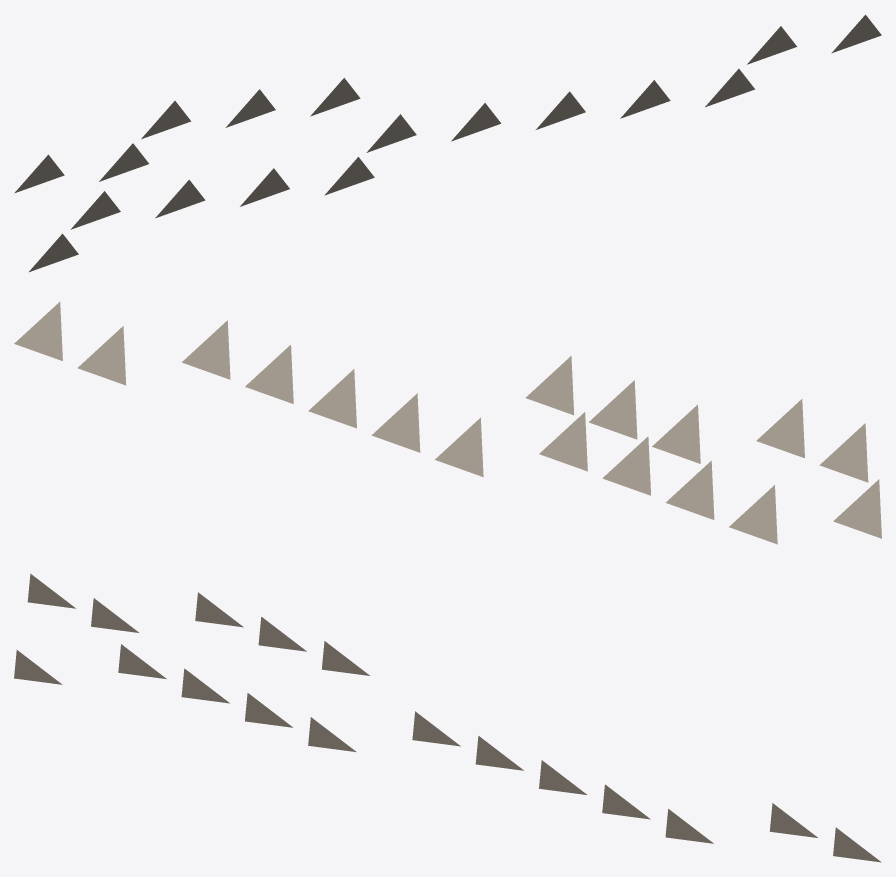
File: prop_bulk_gen_0493_lod2.gltf
The picture shows the model from 3 angles, top to bottom: view 1: azimuth 30°, elevation 25°; view 2: azimuth 150°, elevation 25°; view 3: azimuth 330°, elevation 25°; orthographic projection. The views are drawn at different scales.
Parts seen in each view (by area): view 1: prop_bulk_gen_0493_lod2; view 2: prop_bulk_gen_0493_lod2; view 3: prop_bulk_gen_0493_lod2.
Part boxes in pixels (x1=…): prop_bulk_gen_0493_lod2: x1=14, y1=14, x2=881, y2=271; prop_bulk_gen_0493_lod2: x1=14, y1=301, x2=881, y2=544; prop_bulk_gen_0493_lod2: x1=14, y1=573, x2=881, y2=862.
Size of the model in its own units: 0.6422 by 0.0802 by 0.068.
